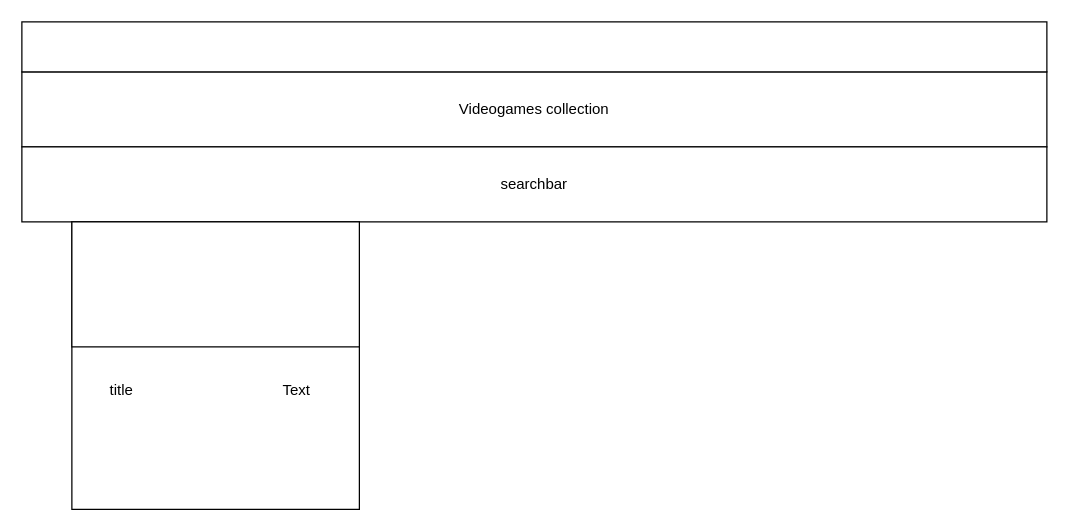
The diagram is 1069 pixels wide and 531 high, and some of its shapes have lost their labels. Each missing label, with the centre of its shape:
background image: point (215, 284)
Nav bar: point (534, 46)
